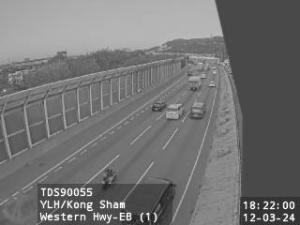motorbike: (102, 169, 117, 189)
truck: (189, 76, 202, 90)
vehicle: (120, 179, 176, 225), (166, 104, 184, 120), (188, 102, 205, 118), (151, 100, 165, 112), (208, 81, 216, 87), (199, 74, 206, 78), (213, 71, 217, 75)
